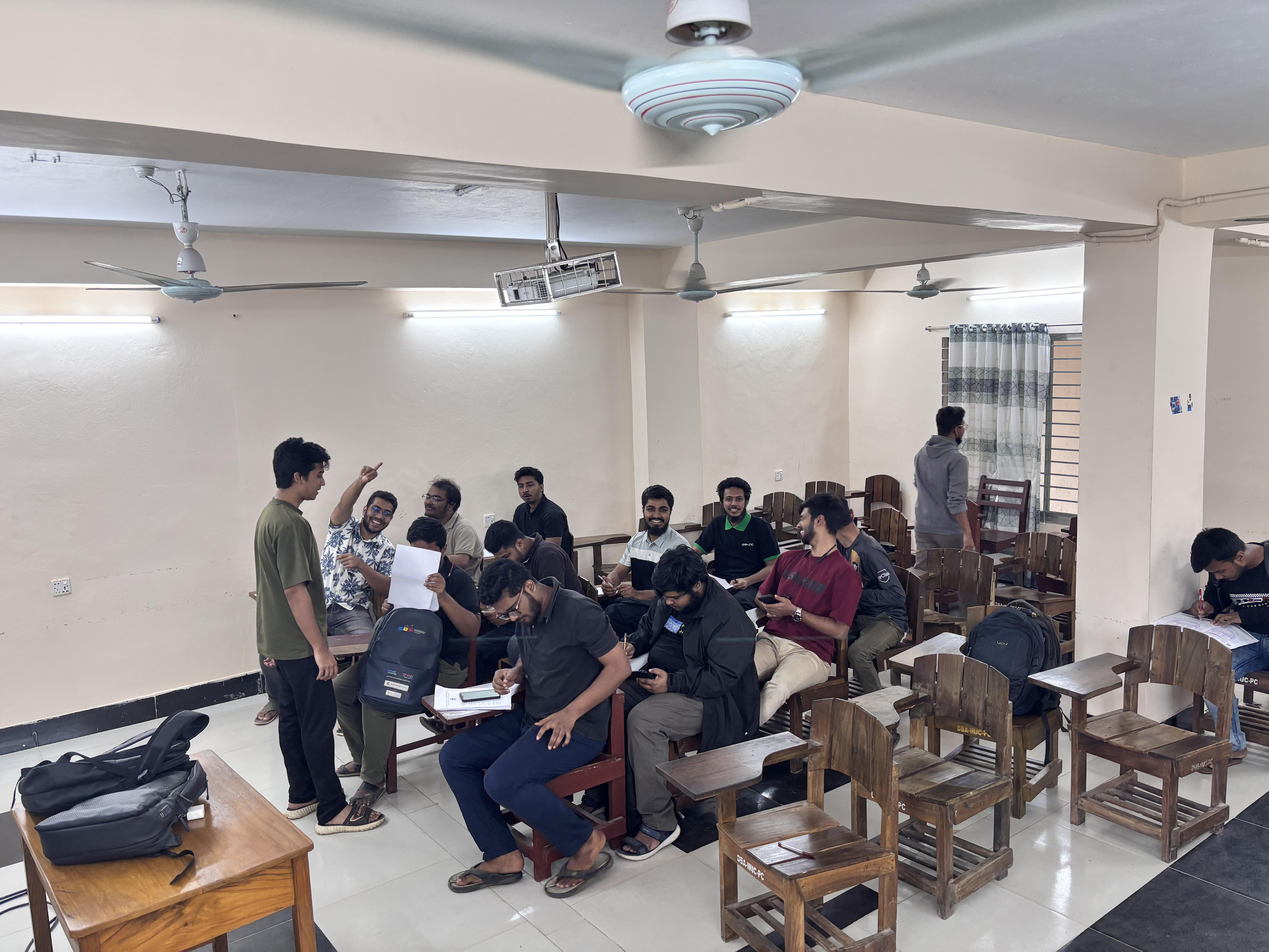invigilator: (247, 423, 387, 842), (908, 394, 992, 571)
no_cheating: (1173, 514, 1269, 760), (472, 511, 602, 593), (407, 477, 487, 577)
suspicious_moving: (318, 440, 400, 651), (830, 484, 904, 688), (694, 467, 788, 612), (609, 473, 698, 600), (494, 463, 587, 556)
unauthorized_notes: (334, 507, 485, 826)
using_phone: (435, 549, 631, 912), (608, 538, 766, 867), (748, 491, 859, 731)
